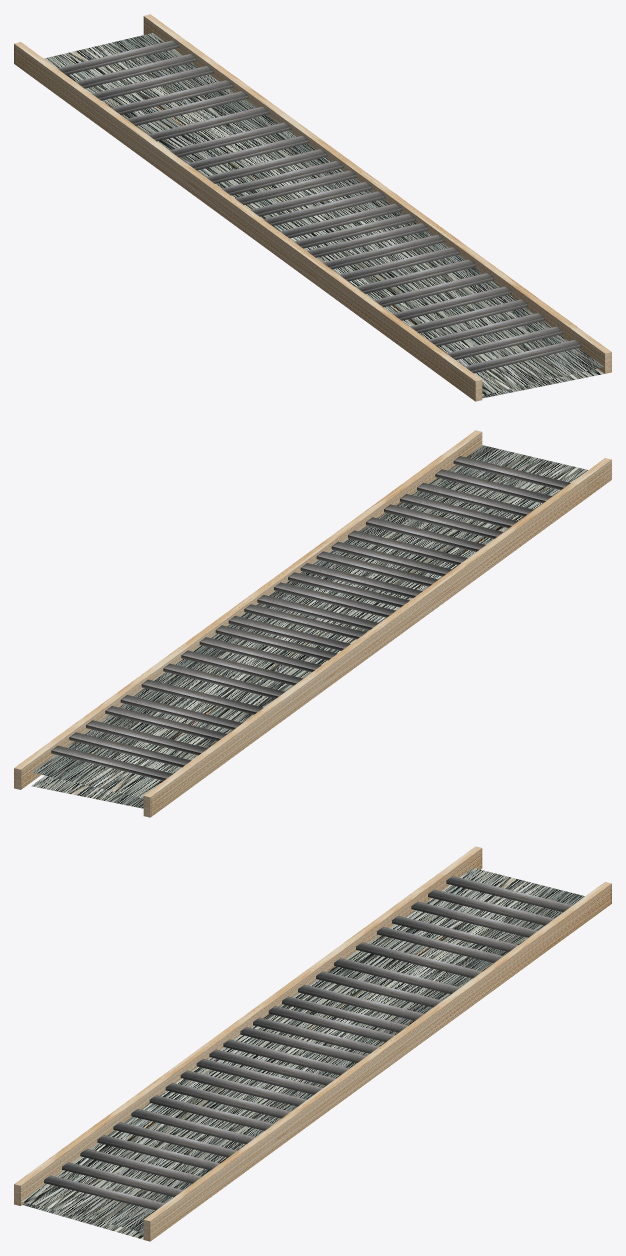
File: Rails.fbx
The picture shows the model from 3 angles, top to bottom: view 1: azimuth 30°, elevation 25°; view 2: azimuth 150°, elevation 25°; view 3: azimuth 330°, elevation 25°; orthographic projection.
Parts seen in each view (by area): view 1: polySurface1; view 2: polySurface1; view 3: polySurface1.
Part boxes in pixels (box(x1,y1,x2,y2)): polySurface1: box(14, 14, 611, 401); polySurface1: box(14, 430, 611, 817); polySurface1: box(14, 846, 611, 1241).
Bounding box in the file's own units: 0.9128 × 0.1913 × 5.35.
5 materials, 5 textured.
